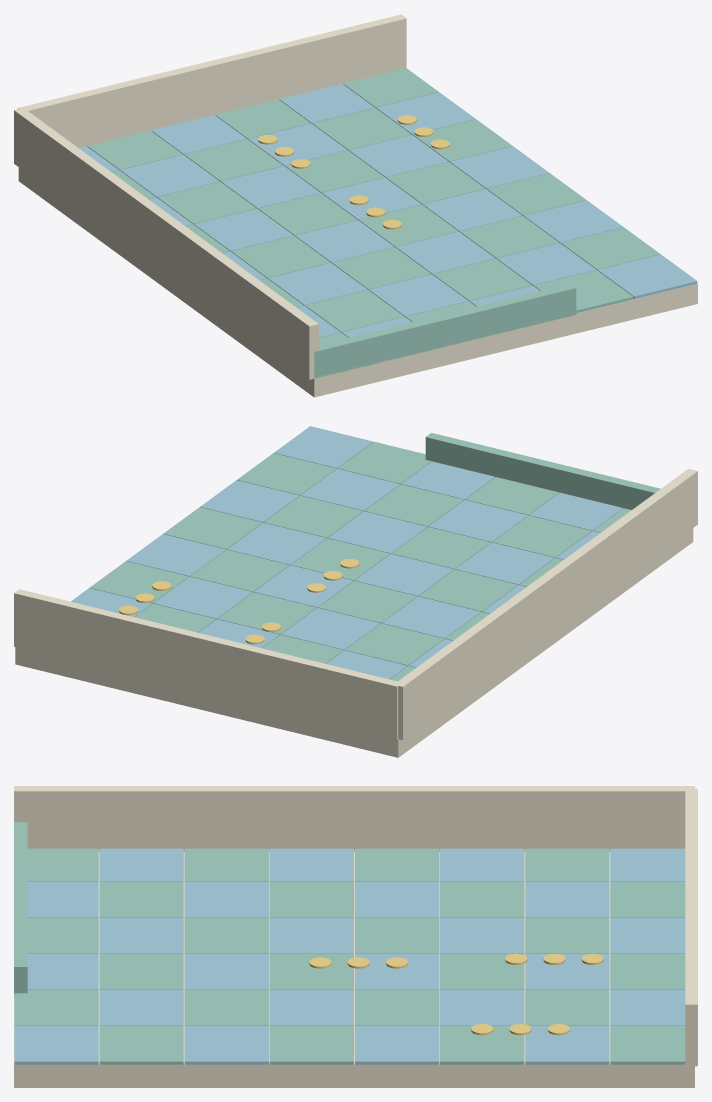
The model's file is sun-courtyard.glb.
3 views of the same model, one above another, from view 1: azimuth 30°, elevation 25°; view 2: azimuth 150°, elevation 25°; view 3: azimuth 270°, elevation 25° (orthographic). The views are drawn at different scales.
Parts seen in each view (by area): view 1: courtyard front border, back wall, room tile.003, queue spot.001; view 2: back wall, courtyard front border, room tile.003, queue spot.001; view 3: courtyard front border, room tile.003, back wall, queue spot.001.
Boxes of the visible parts, <box> form: courtyard front border: <box>87,68,660,378</box>; back wall: <box>14,14,697,397</box>; room tile.003: <box>79,83,697,337</box>; queue spot.001: <box>258,115,449,229</box>; back wall: <box>14,469,697,757</box>; courtyard front border: <box>89,433,660,681</box>; room tile.003: <box>71,426,622,679</box>; queue spot.001: <box>119,559,359,644</box>; courtyard front border: <box>14,822,685,1064</box>; room tile.003: <box>14,848,685,1064</box>; back wall: <box>14,786,697,1087</box>; queue spot.001: <box>309,953,603,1035</box>.
Size of the model in its own units: 6.07 by 1.08 by 8.04.
